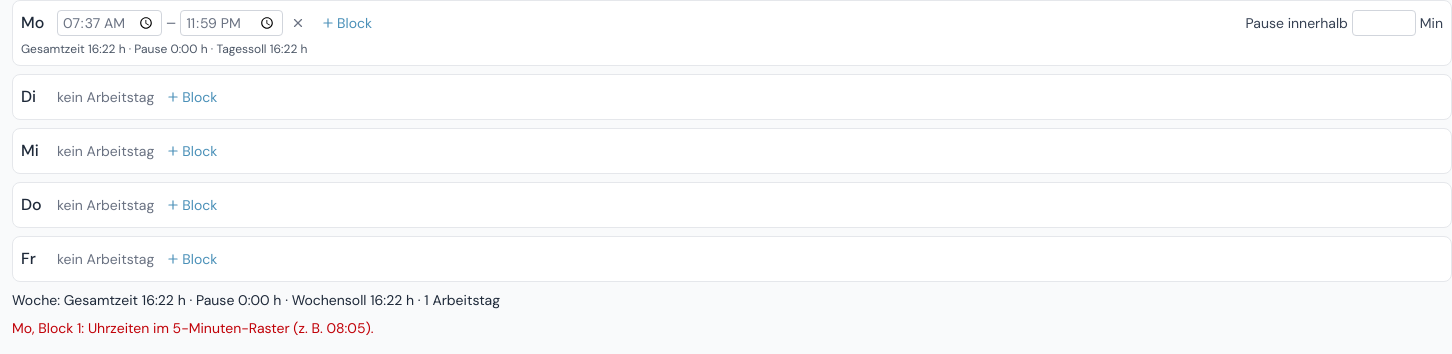
WorkBlocksEditor (Spec 12.1) › leere Pause verlangt eine Angabe, Altwerte melden das Raster (Review Focus 4)
Expected: the message reads "Mo, Block 1: Uhrzeiten im 5-Minuten-Raster (z. B. 08:05).", [12,319,374,337]
Replace the text in the time field named "Mo Block 1 von" with "07:35" at (109, 23), box [57,10,162,36]
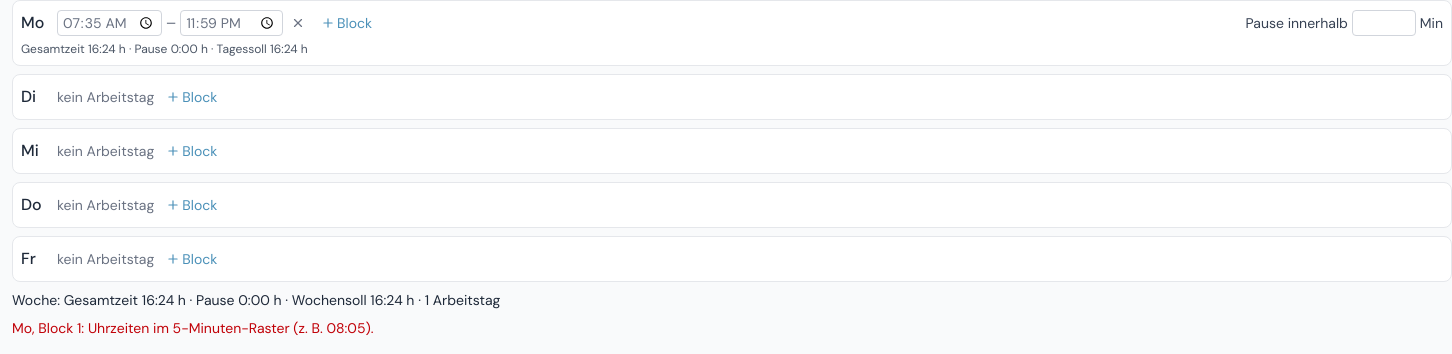
Replace the text in the time field named "Mo Block 1 bis" with "16:30" at (232, 23), box [180,10,283,36]
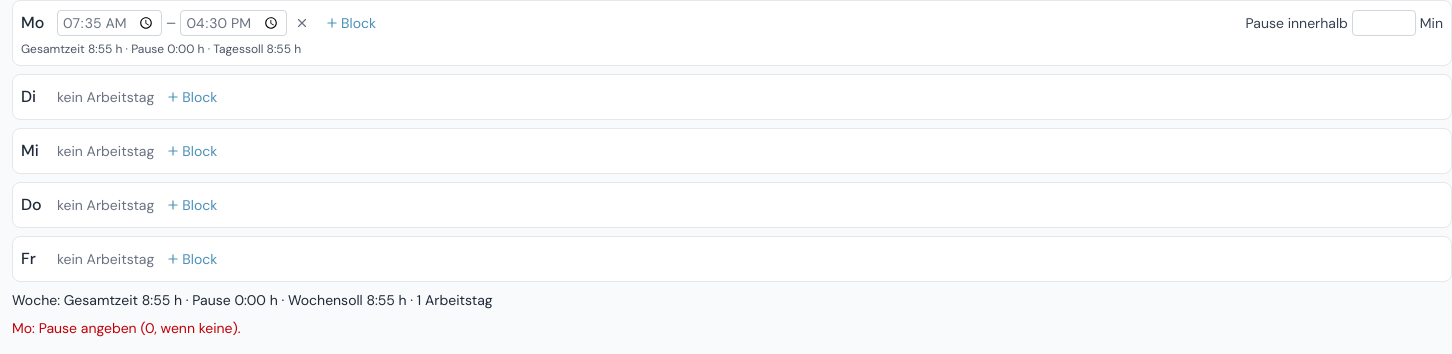
Expected: the message reads "Mo: Pause angeben (0, wenn keine).", [12,319,240,337]
